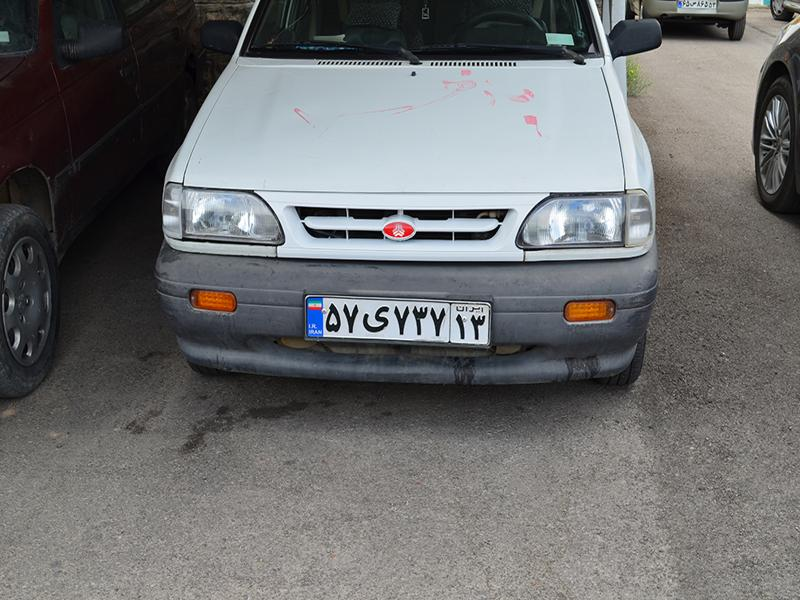Plate: (307, 296, 494, 349)
